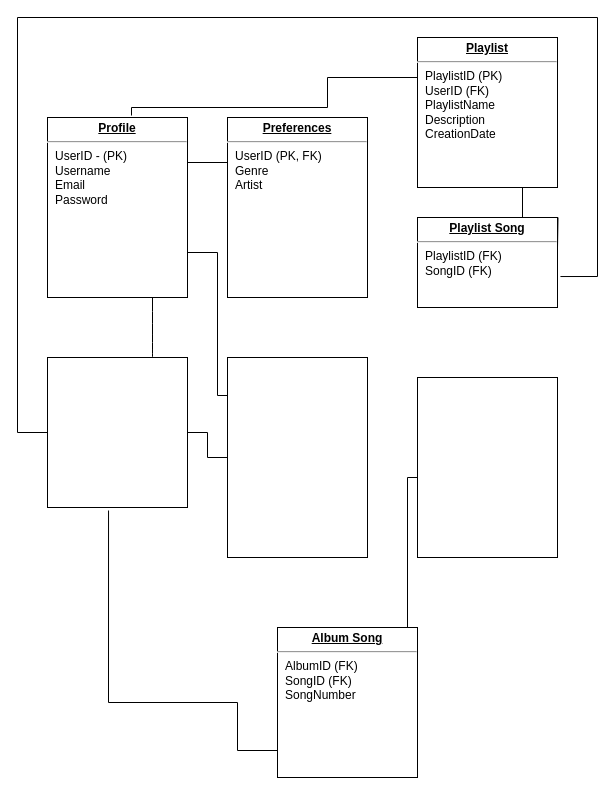
This 616x795 diagram has some shape labels left out. The centre of each missing label's shape, as x and y in pixels:
Album AlbumID (PK) Title Artist ReleaseDate Genre: the point at 487,467
Listening History UserID (PK, FK) TrackID (PK, FK) Timestamp InteractionType: the point at 297,457
Song SongID - (PK) AlbumID - (FK) Title Artist Genre ReleaseDate: the point at 117,432
